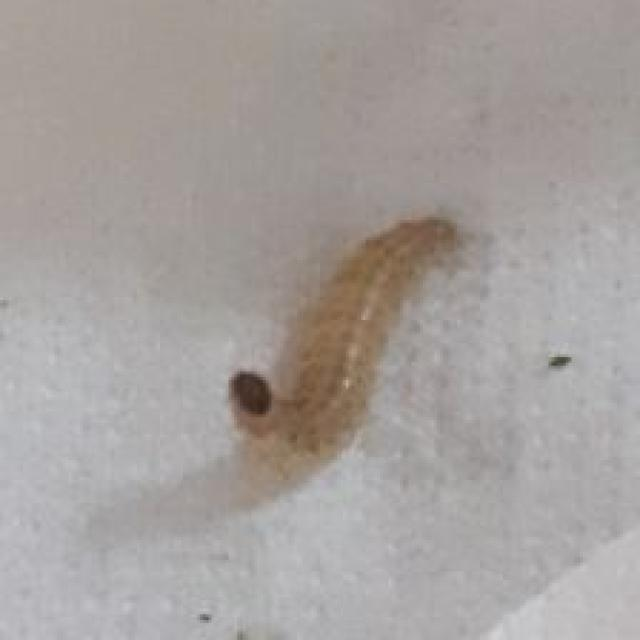white mucus: (144, 186, 493, 501)
